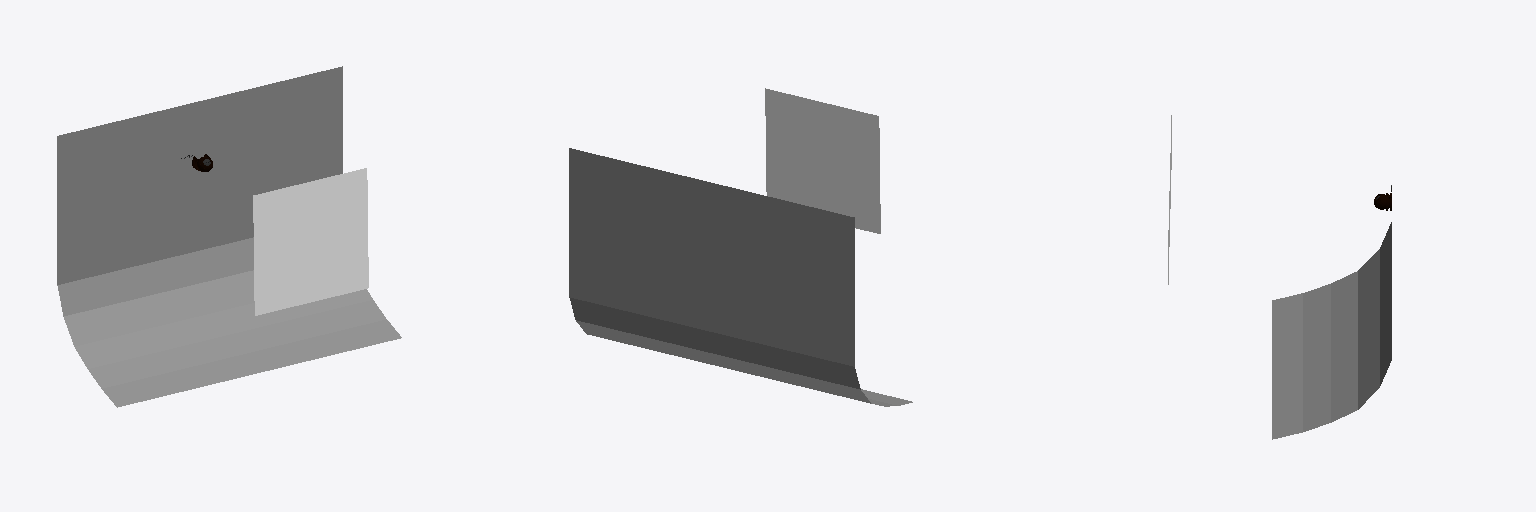
Rendered from MoriKnob.obj.
The picture shows the model from 3 angles: view 1: azimuth 30°, elevation 25°; view 2: azimuth 150°, elevation 25°; view 3: azimuth 270°, elevation 25°; orthographic projection.
Visible parts, largest first — view 1: MoriKnob; view 2: MoriKnob; view 3: MoriKnob.
Boxes of the visible parts, <box> form: MoriKnob: <box>57,66,401,407</box>; MoriKnob: <box>569,88,912,406</box>; MoriKnob: <box>1168,115,1391,439</box>.
Size of the model in its own units: 18.75 by 14.32 by 12.69.